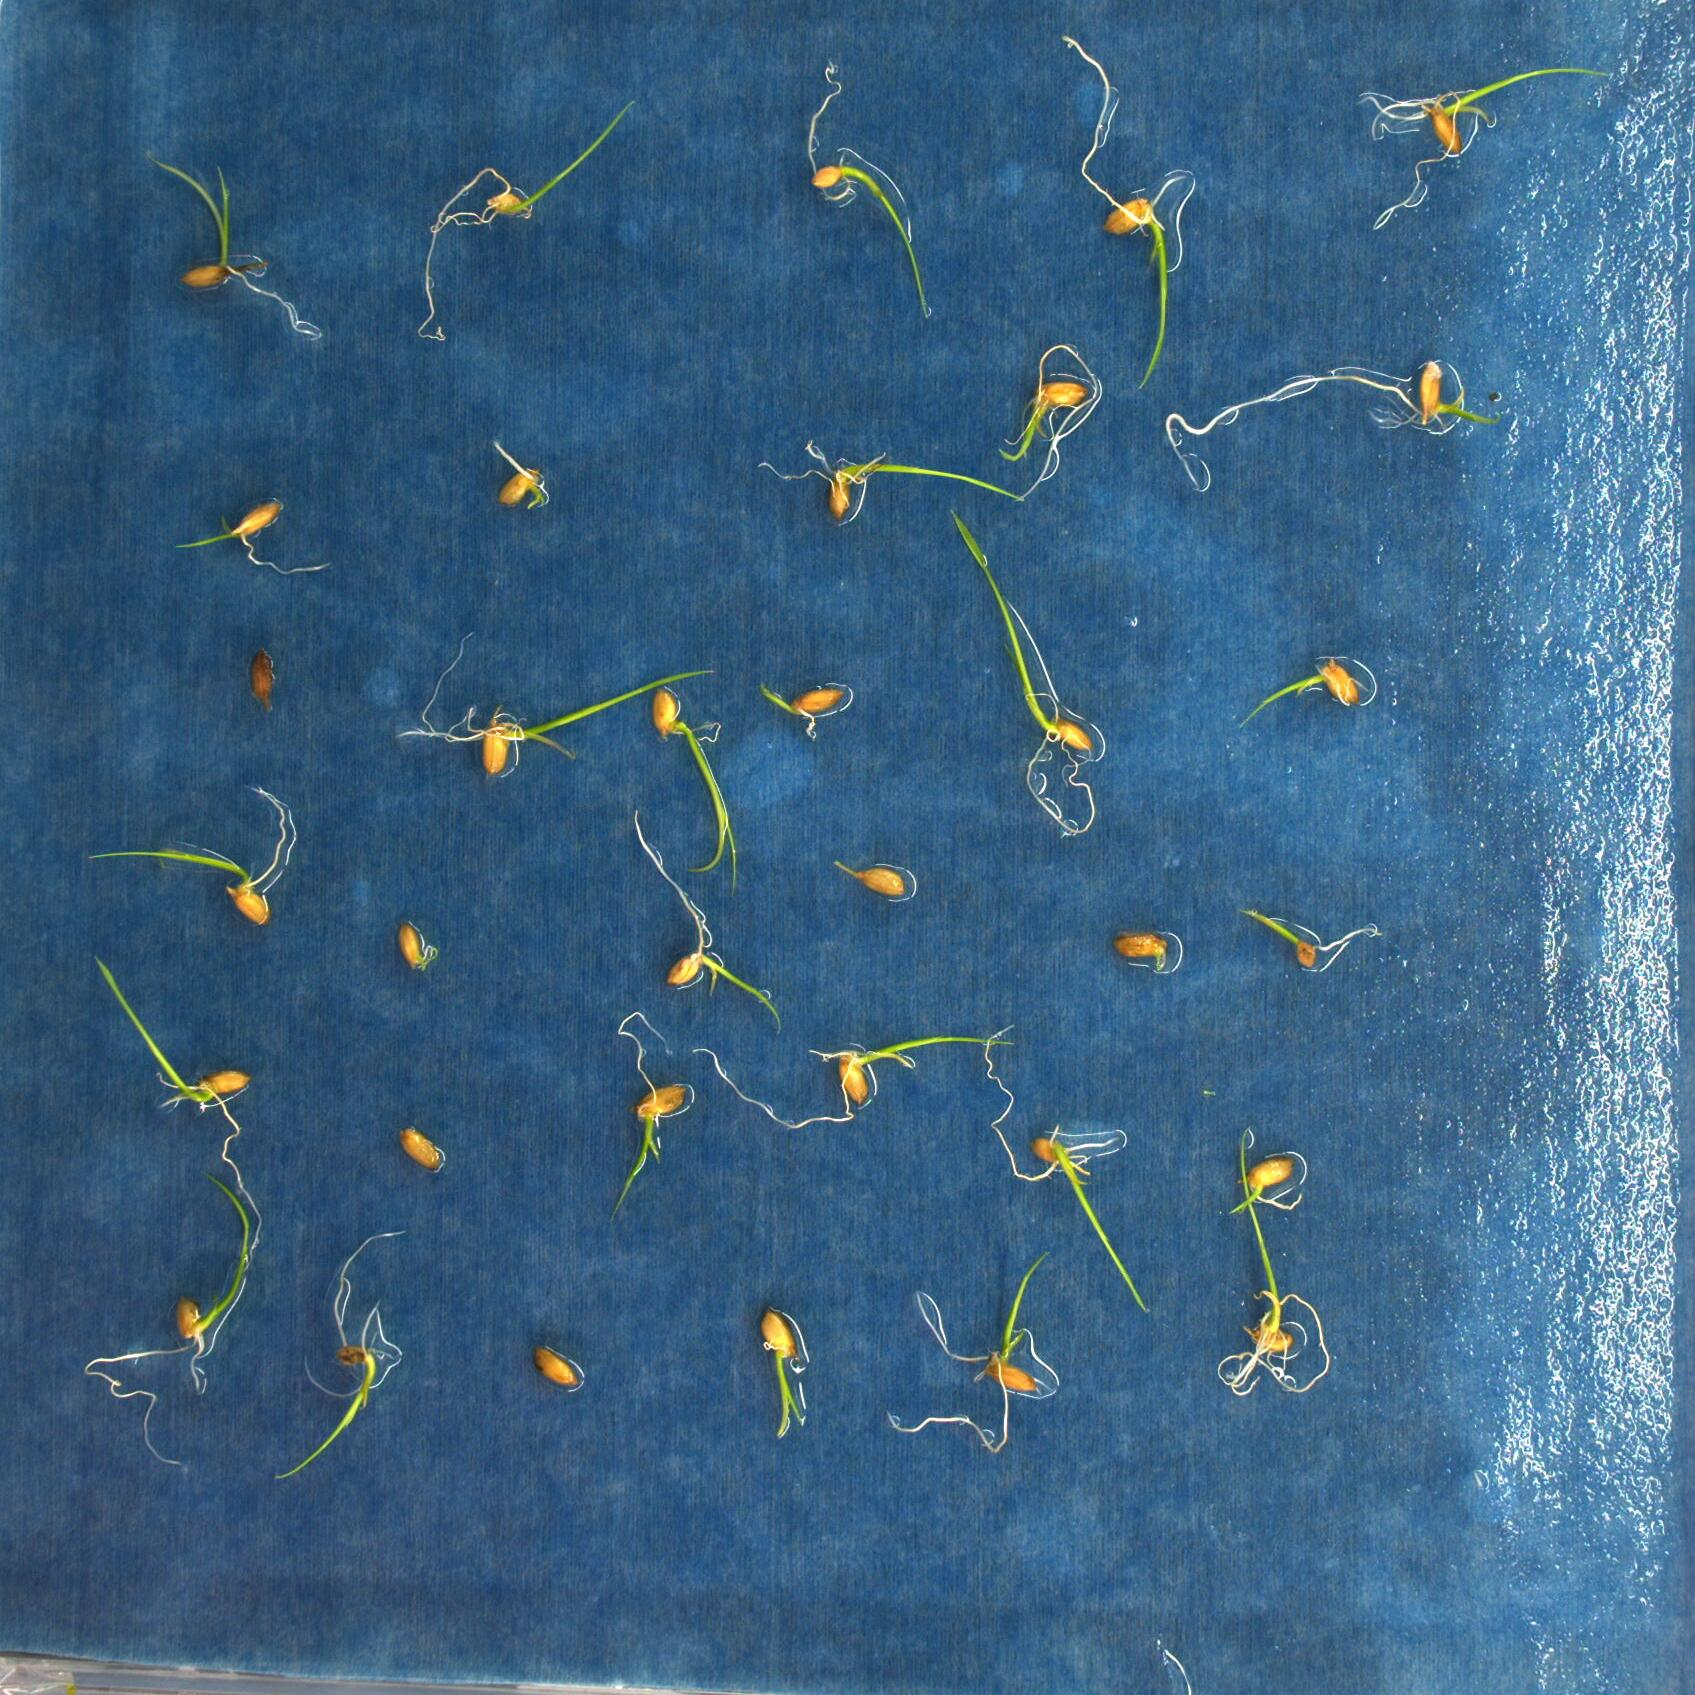not sprout: (829, 861, 906, 900), (528, 1336, 581, 1392), (388, 920, 439, 973), (1116, 924, 1169, 972), (248, 643, 278, 712), (400, 1125, 442, 1170)
sprout: (93, 958, 289, 1262), (419, 98, 636, 346), (951, 500, 1101, 838), (987, 1032, 1158, 1319), (400, 636, 720, 789), (82, 1177, 248, 1464), (1163, 355, 1499, 492), (1068, 31, 1195, 388), (1361, 64, 1605, 227), (147, 141, 324, 343), (272, 1229, 410, 1487), (694, 1031, 1010, 1135), (633, 810, 782, 1031), (889, 1254, 1051, 1454), (806, 61, 933, 309), (1215, 1127, 1330, 1399), (82, 784, 292, 925), (757, 438, 1021, 517), (647, 681, 744, 886), (605, 1010, 694, 1226), (997, 346, 1097, 501), (168, 494, 328, 581), (1236, 657, 1372, 737), (1236, 906, 1380, 969), (756, 1307, 810, 1437), (761, 675, 849, 737), (1229, 1150, 1301, 1223), (492, 436, 549, 508)
